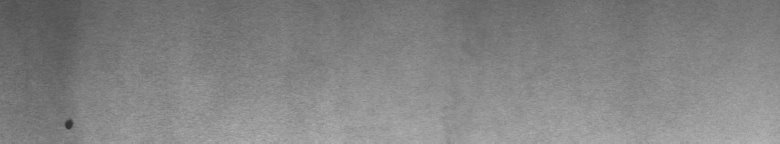fi: (58, 112, 79, 136)
